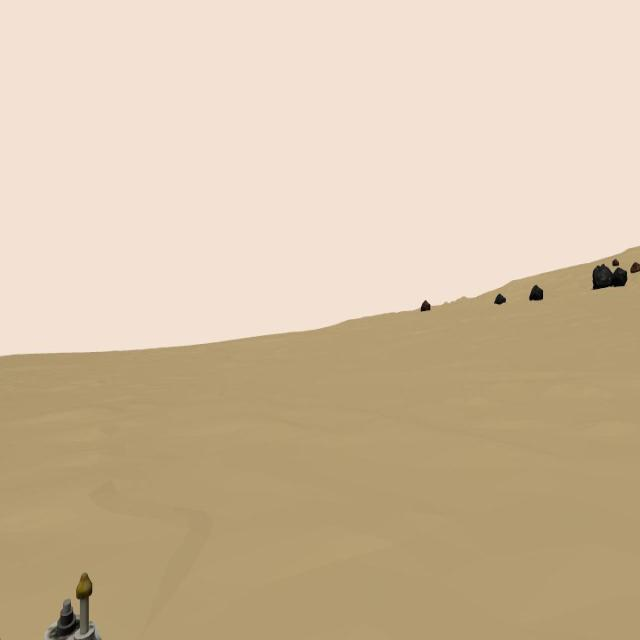rock: (593, 264, 612, 289), (612, 267, 627, 286), (529, 286, 543, 302), (494, 294, 506, 305), (421, 300, 430, 312), (630, 262, 640, 272), (611, 258, 618, 267)
